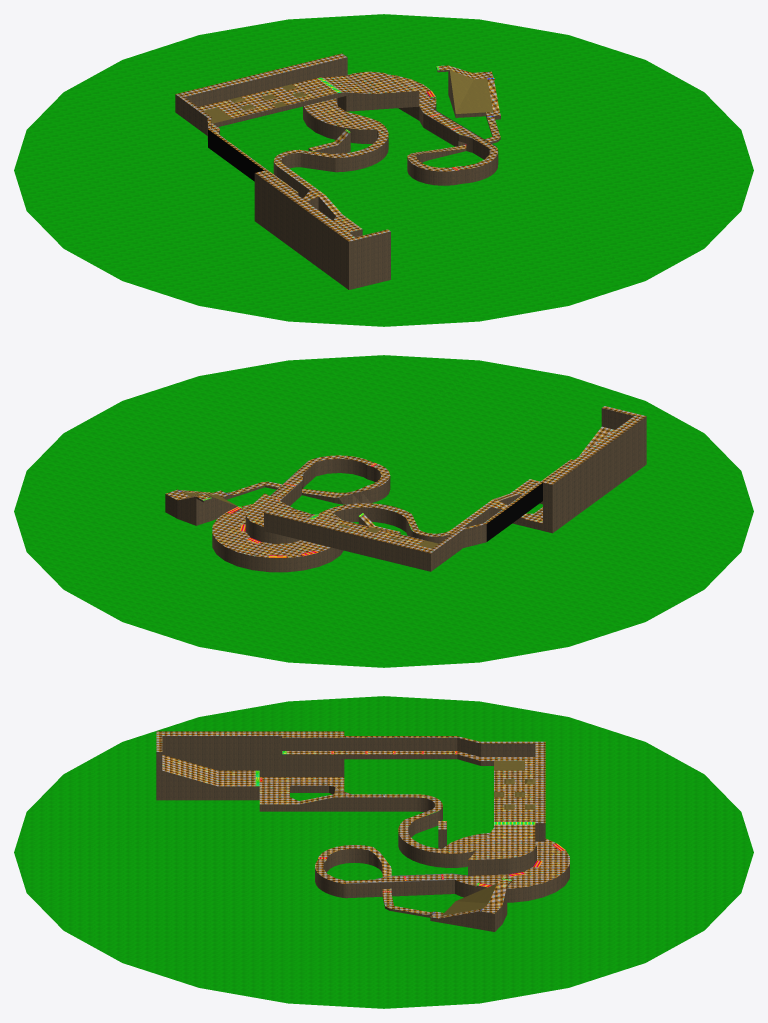
3 renders of one model, top to bottom at view 1: azimuth 30°, elevation 25°; view 2: azimuth 150°, elevation 25°; view 3: azimuth 270°, elevation 25°, orthographic.
Visible parts, largest first — view 1: brres-SKP--grassfall.001, brres-SKP--wall, brres-SKP--road.002, brres-SKP--sand1, brres-SKP--Default_Material.003; view 2: brres-SKP--grassfall.001, brres-SKP--wall, brres-SKP--road.002, brres-SKP--Default_Material.003; view 3: brres-SKP--grassfall.001, brres-SKP--wall, brres-SKP--road.002, brres-SKP--sand1.
Part boxes in pixels (x1,y1,x2,y2): brres-SKP--grassfall.001: [14, 14, 753, 326]; brres-SKP--wall: [175, 57, 500, 289]; brres-SKP--road.002: [175, 53, 500, 241]; brres-SKP--sand1: [203, 70, 493, 123]; brres-SKP--Default_Material.003: [208, 129, 263, 181]; brres-SKP--grassfall.001: [14, 355, 753, 667]; brres-SKP--wall: [165, 408, 646, 572]; brres-SKP--road.002: [165, 406, 646, 557]; brres-SKP--Default_Material.003: [486, 483, 542, 541]; brres-SKP--grassfall.001: [14, 696, 753, 1008]; brres-SKP--wall: [156, 736, 569, 931]; brres-SKP--road.002: [156, 731, 569, 918]; brres-SKP--sand1: [441, 760, 535, 915].
Size of the model in its own units: 307542 by 22178 by 307542.
Materials: 10 (10 with a texture image).
